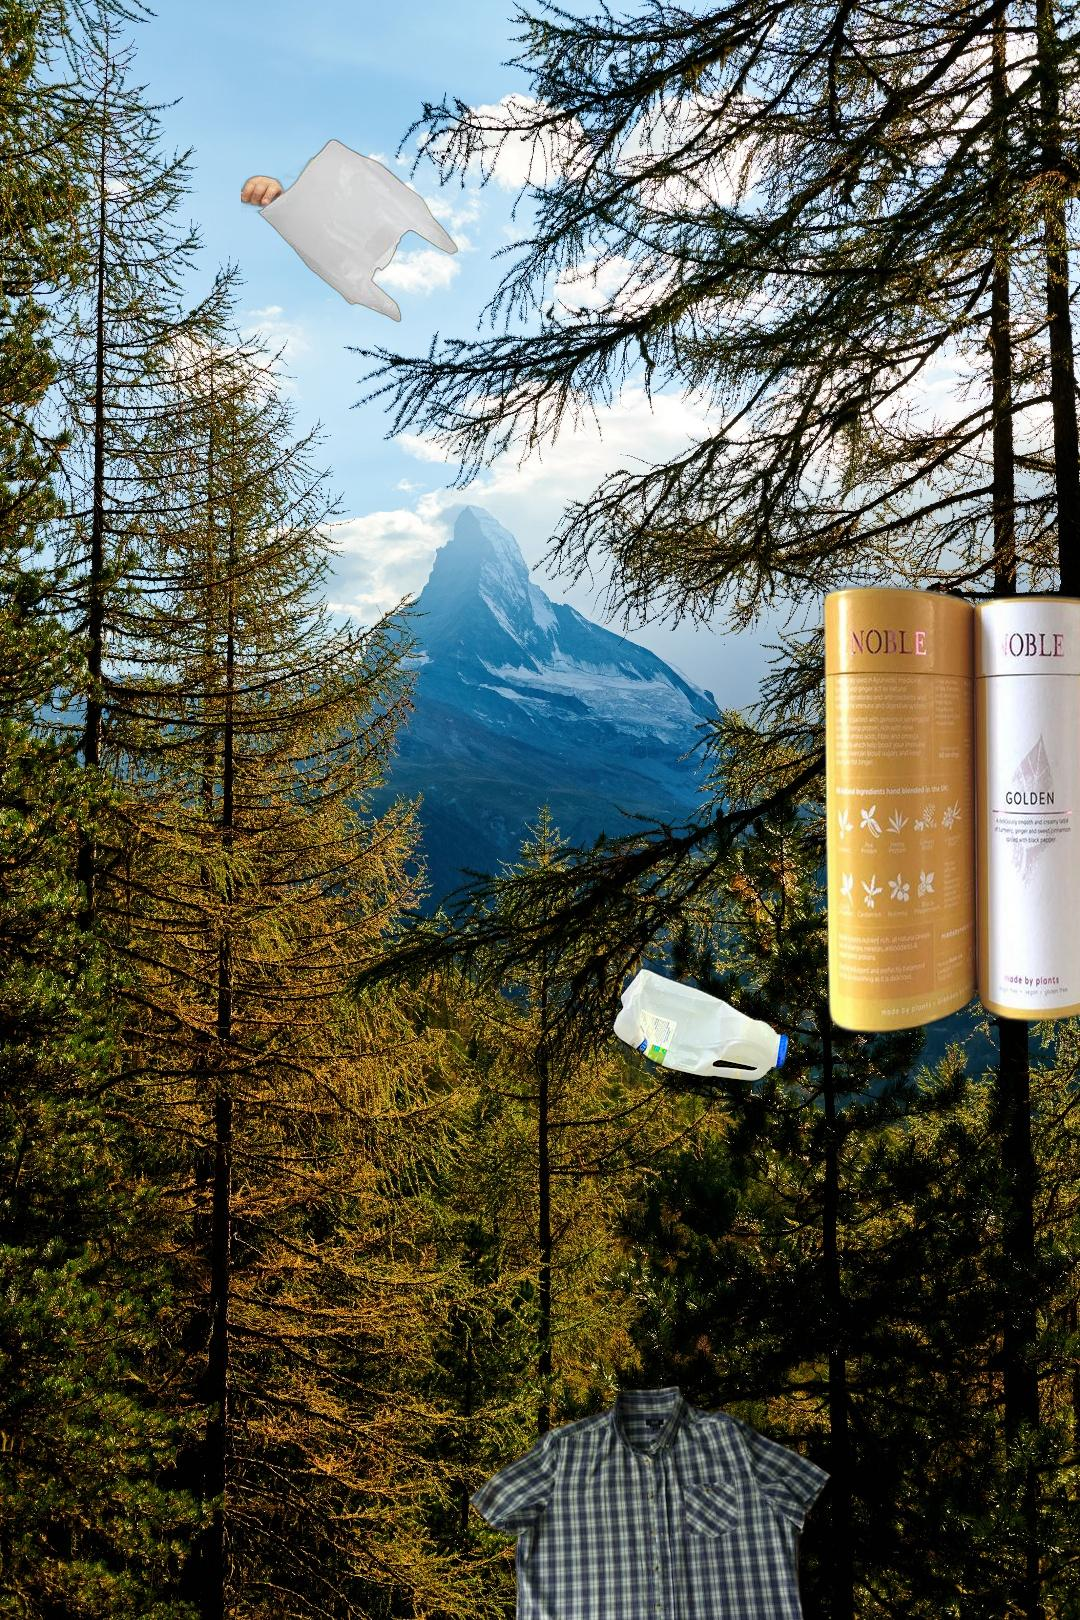clothes: (464, 1382, 836, 1620)
plastic-bag: (241, 137, 461, 323)
plastic-bottles: (607, 962, 794, 1088)
trashbox-cardboard: (818, 577, 1080, 1040)
